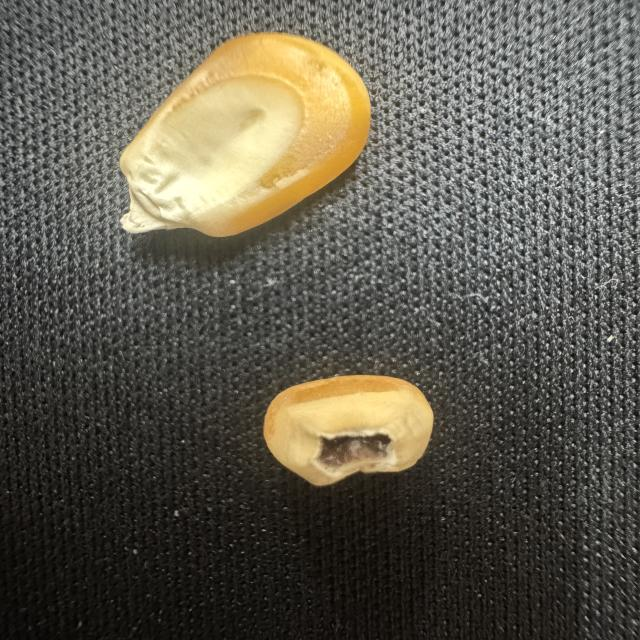Bad-Seed: (257, 372, 438, 490)
Good-Seed: (107, 27, 377, 244)
